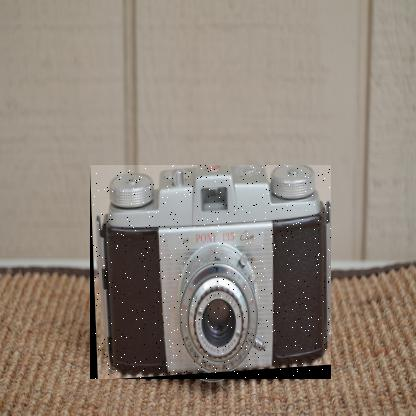Camera: (91, 166, 333, 381)
